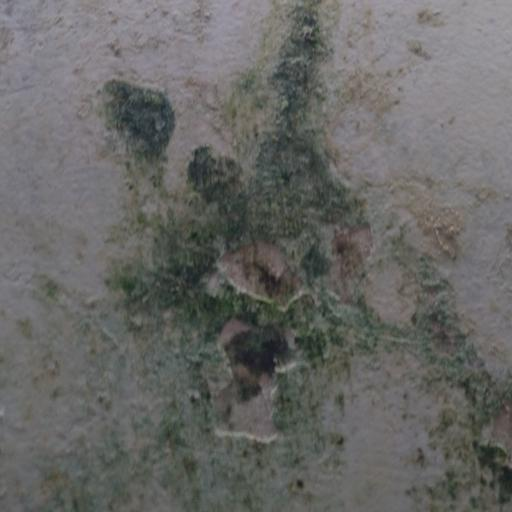algae: (76, 28, 512, 512)
